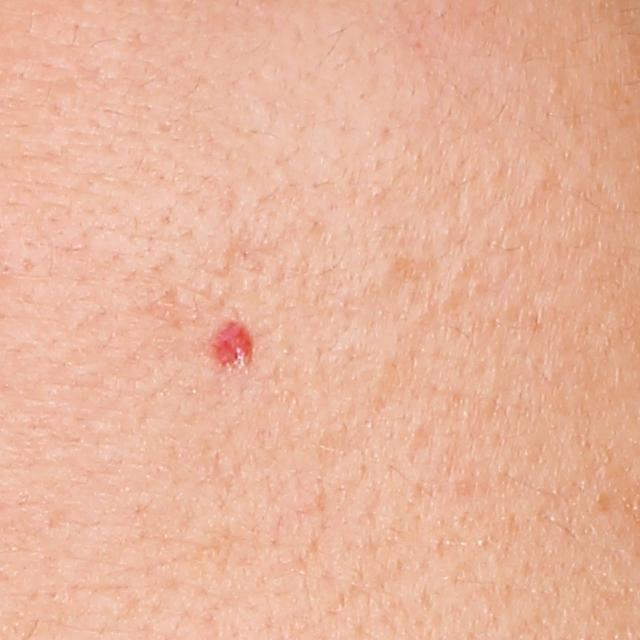comedo: (529, 159, 558, 193)
other: (208, 314, 257, 374)
